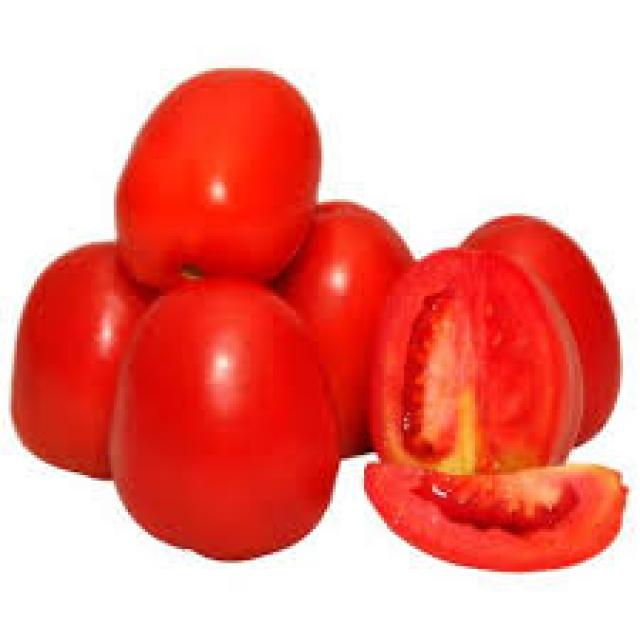Fresh_tomato: (95, 44, 322, 295), (120, 299, 327, 539), (373, 246, 567, 466), (356, 464, 622, 562)
